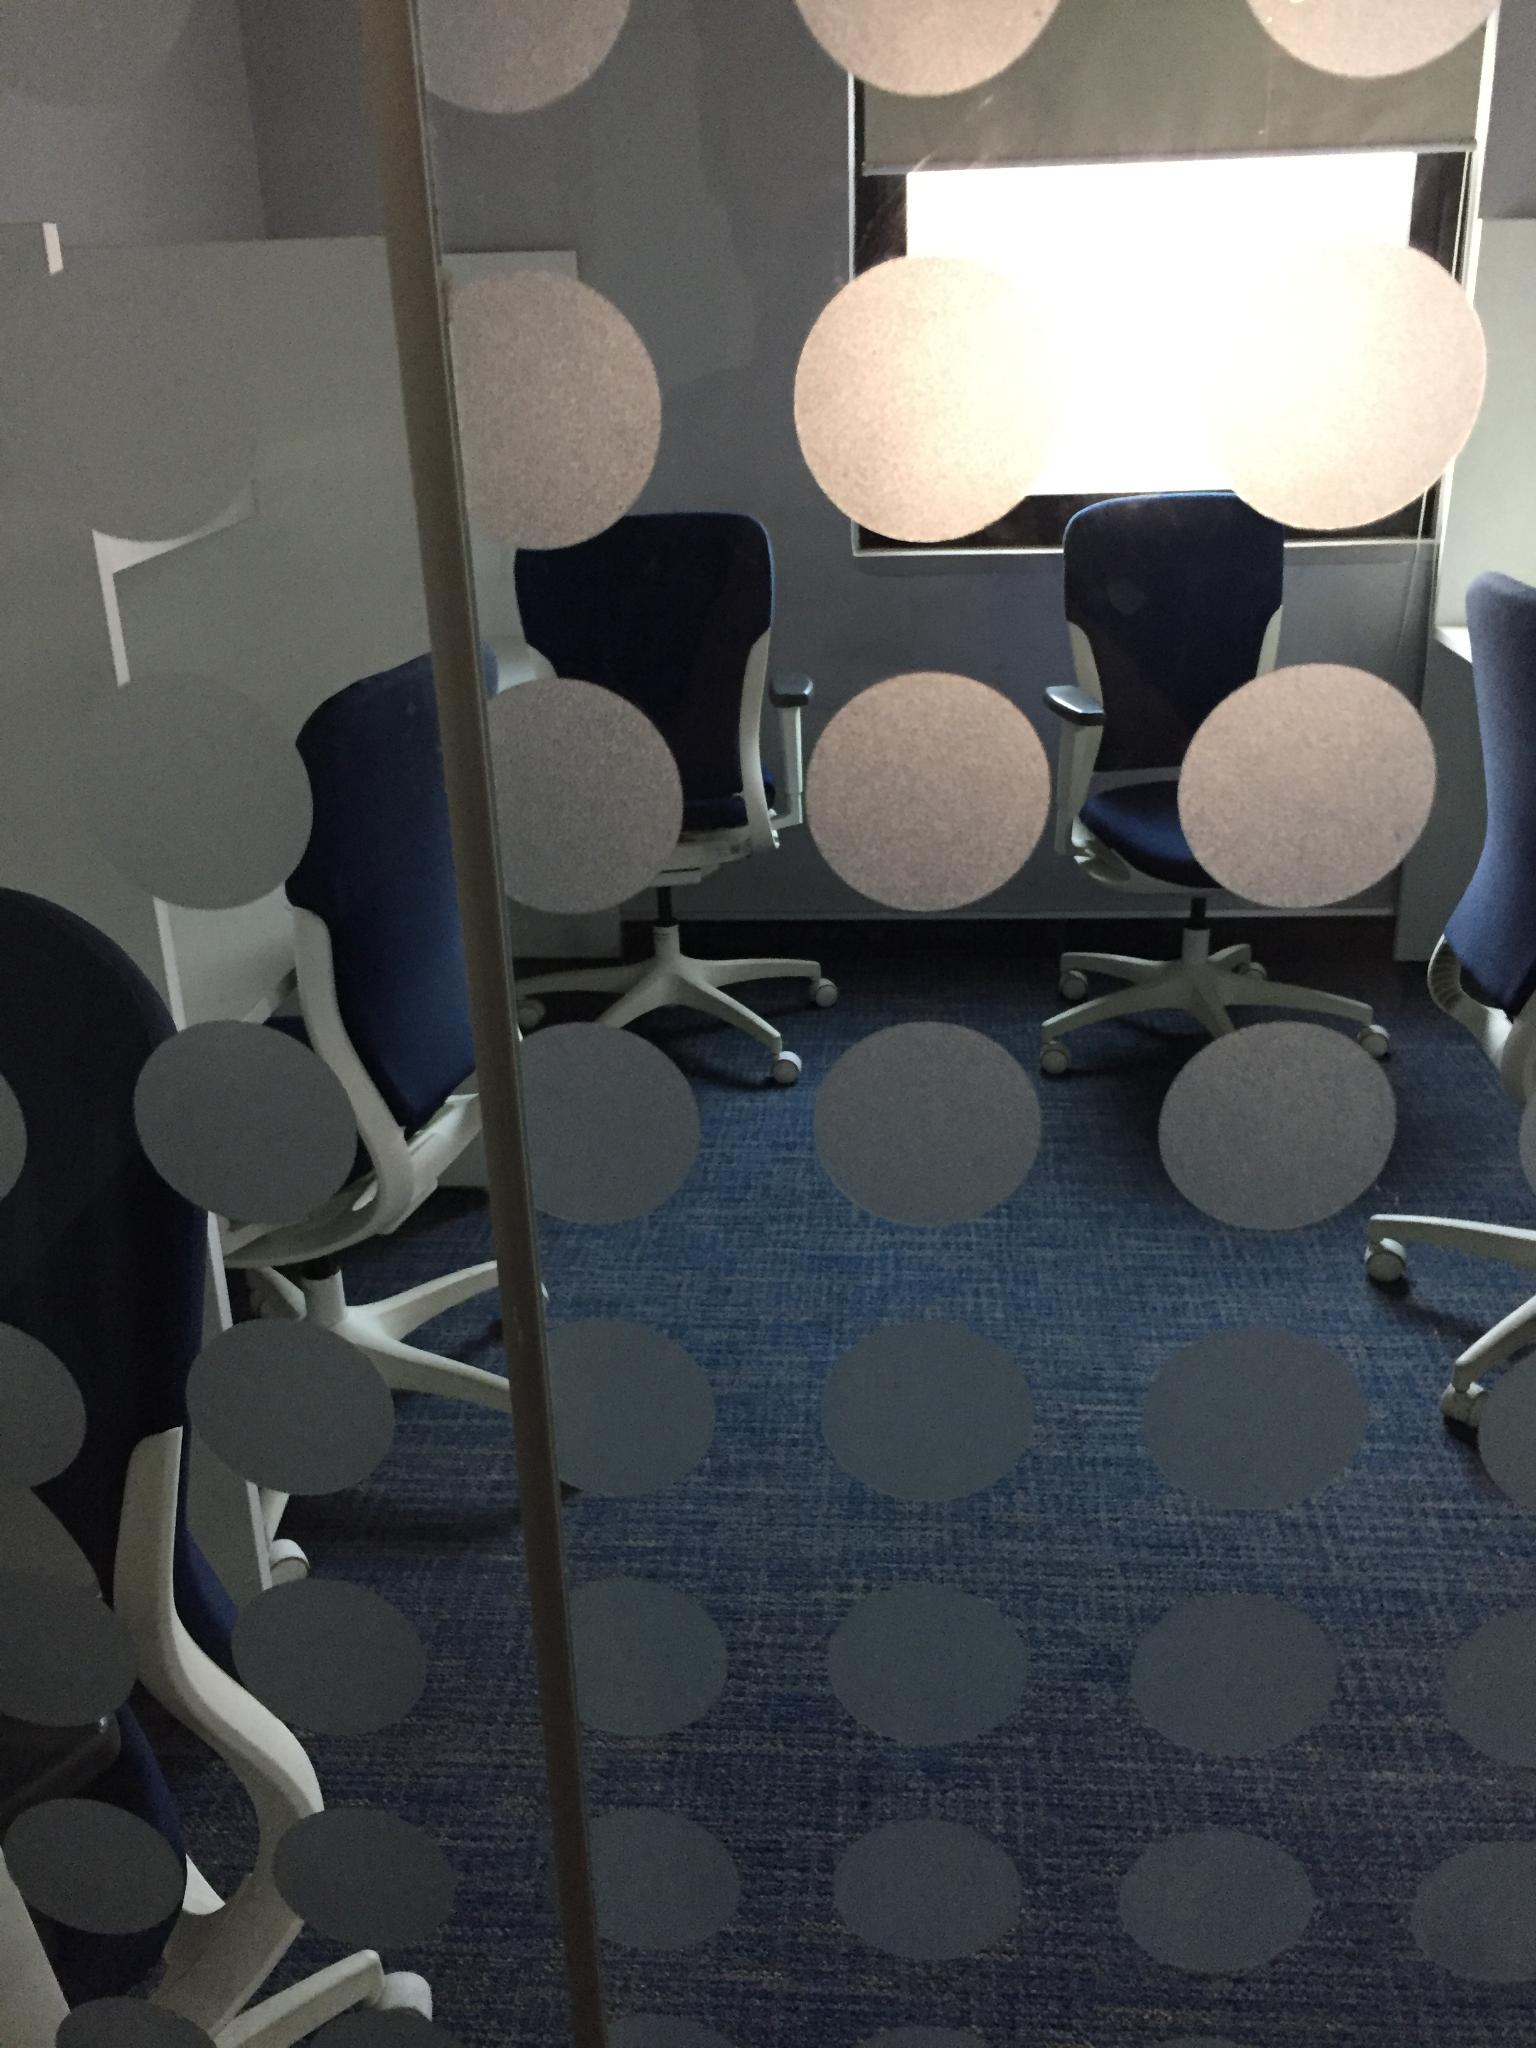chair: (0, 910, 490, 2048), (136, 632, 570, 1532), (1037, 490, 1421, 1077), (510, 508, 841, 1085), (1362, 569, 1534, 1429)
